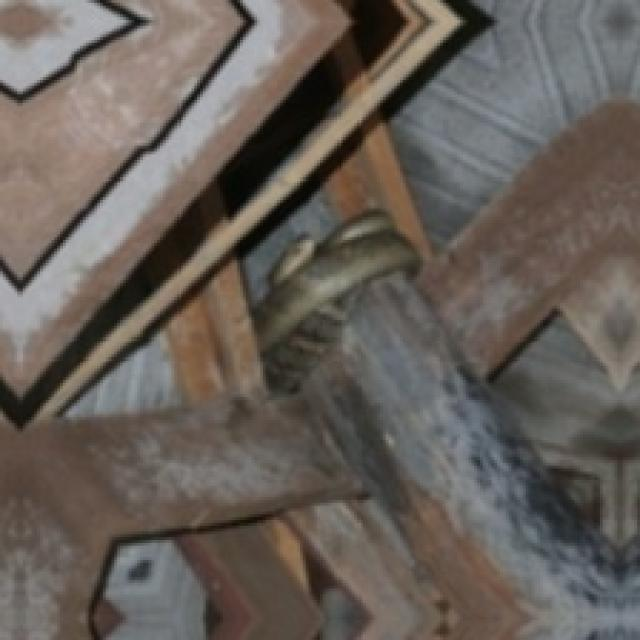king cobra: (0, 277, 637, 637), (291, 274, 637, 637)
